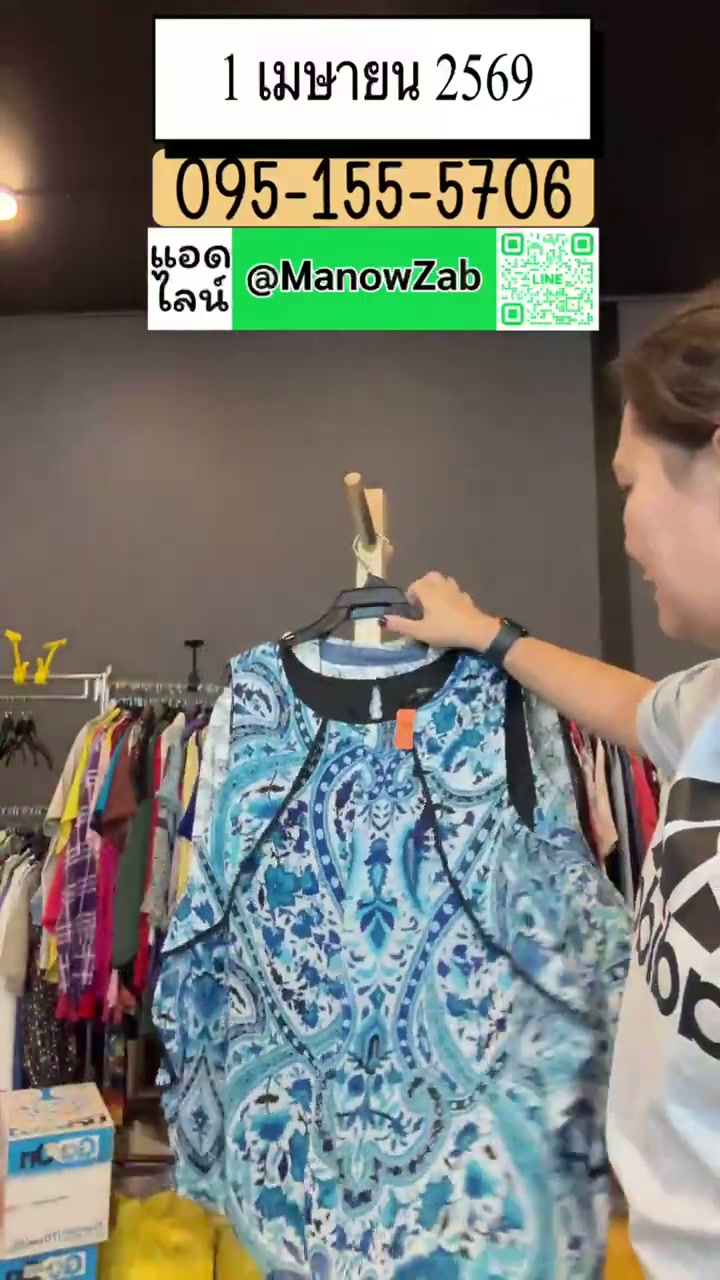display_shirt: (154, 636, 629, 1279)
